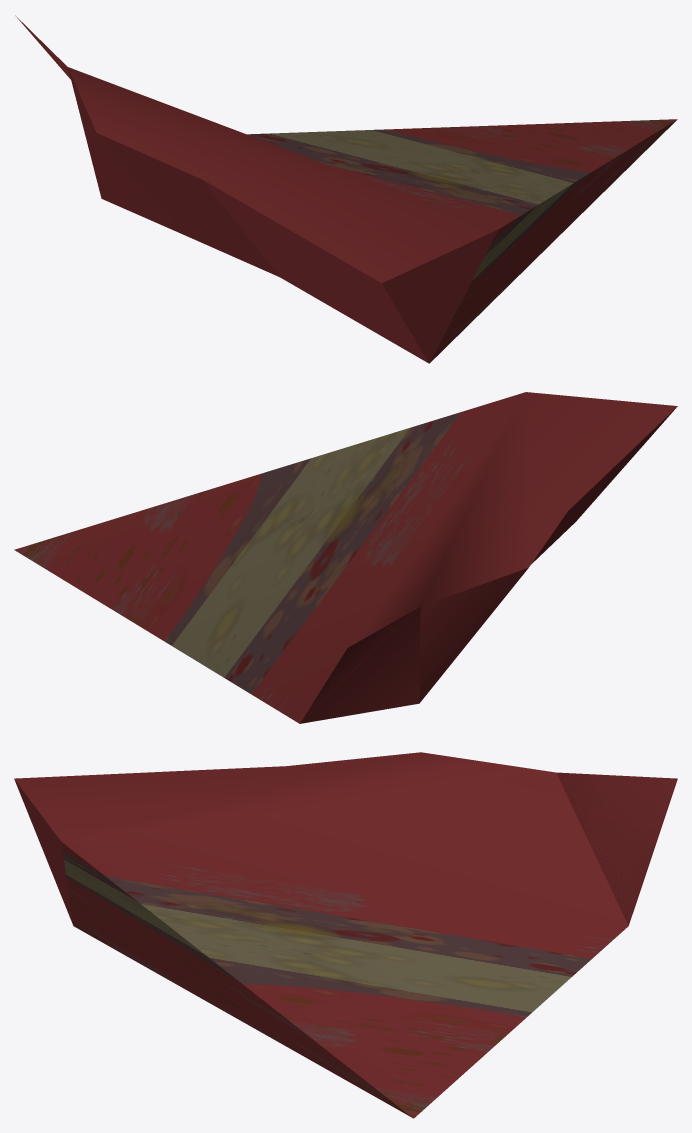
The model's file is ishi_03_07_6.fbx.
3 views of the same model, one above another, from view 1: azimuth 30°, elevation 25°; view 2: azimuth 150°, elevation 25°; view 3: azimuth 270°, elevation 25° (orthographic). The views are drawn at different scales.
Visible parts, largest first — view 1: polySurface47; view 2: polySurface47; view 3: polySurface47.
Boxes of the visible parts, bbox=[...] form: polySurface47: bbox=[15, 15, 677, 363]; polySurface47: bbox=[14, 392, 677, 723]; polySurface47: bbox=[14, 752, 677, 1118].
Size of the model in its own units: 12.49 by 2.57 by 13.79.
Materials: 1 (1 with a texture image).
